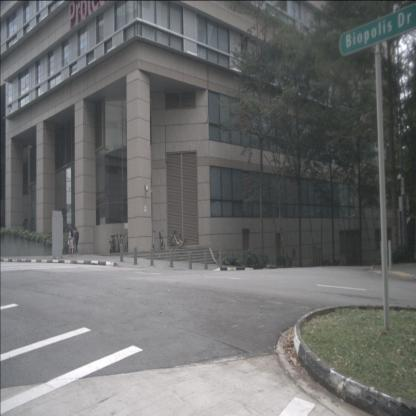human-pedestrian-adult: (68, 227, 75, 257), (74, 226, 79, 257), (71, 224, 75, 256)
vehicle-bicycle: (170, 229, 186, 250), (158, 230, 166, 251), (109, 234, 116, 253), (119, 232, 125, 253)
